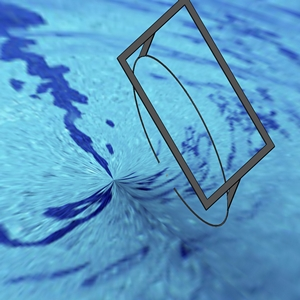circle: (115, 0, 274, 226)
